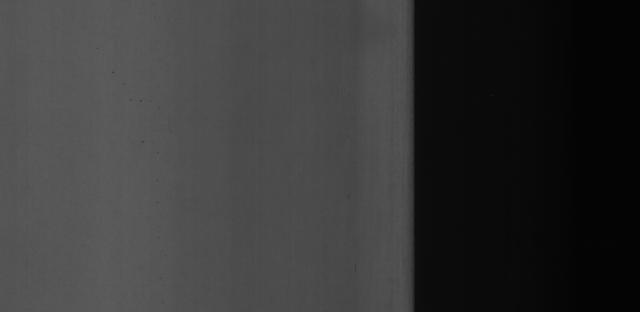inclusion: (127, 91, 153, 117), (107, 63, 135, 83)
